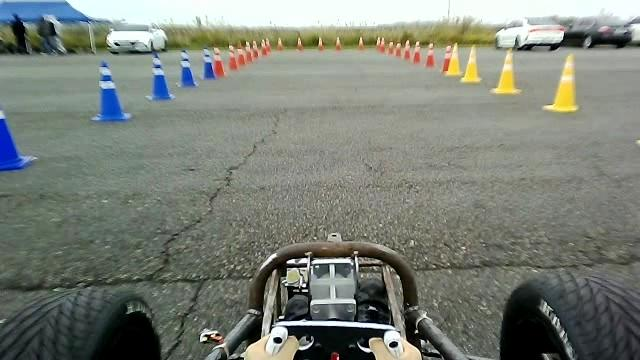blue cone: (90, 60, 131, 121), (145, 50, 175, 101), (175, 49, 198, 88), (201, 47, 216, 79)
red cone: (212, 46, 225, 77), (235, 39, 245, 65), (425, 42, 435, 67), (228, 44, 237, 70), (413, 40, 421, 63), (244, 40, 252, 62), (403, 39, 411, 59), (378, 37, 385, 52), (387, 40, 394, 55), (395, 42, 401, 56)
yellow cone: (541, 53, 579, 112), (489, 47, 522, 94), (459, 44, 481, 83)
